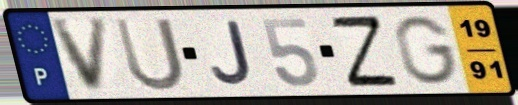5: (258, 16, 321, 89)
G: (392, 13, 462, 87)
J: (208, 18, 256, 88)
U: (111, 16, 188, 93)
V: (47, 15, 112, 95)
Z: (326, 13, 402, 89)
